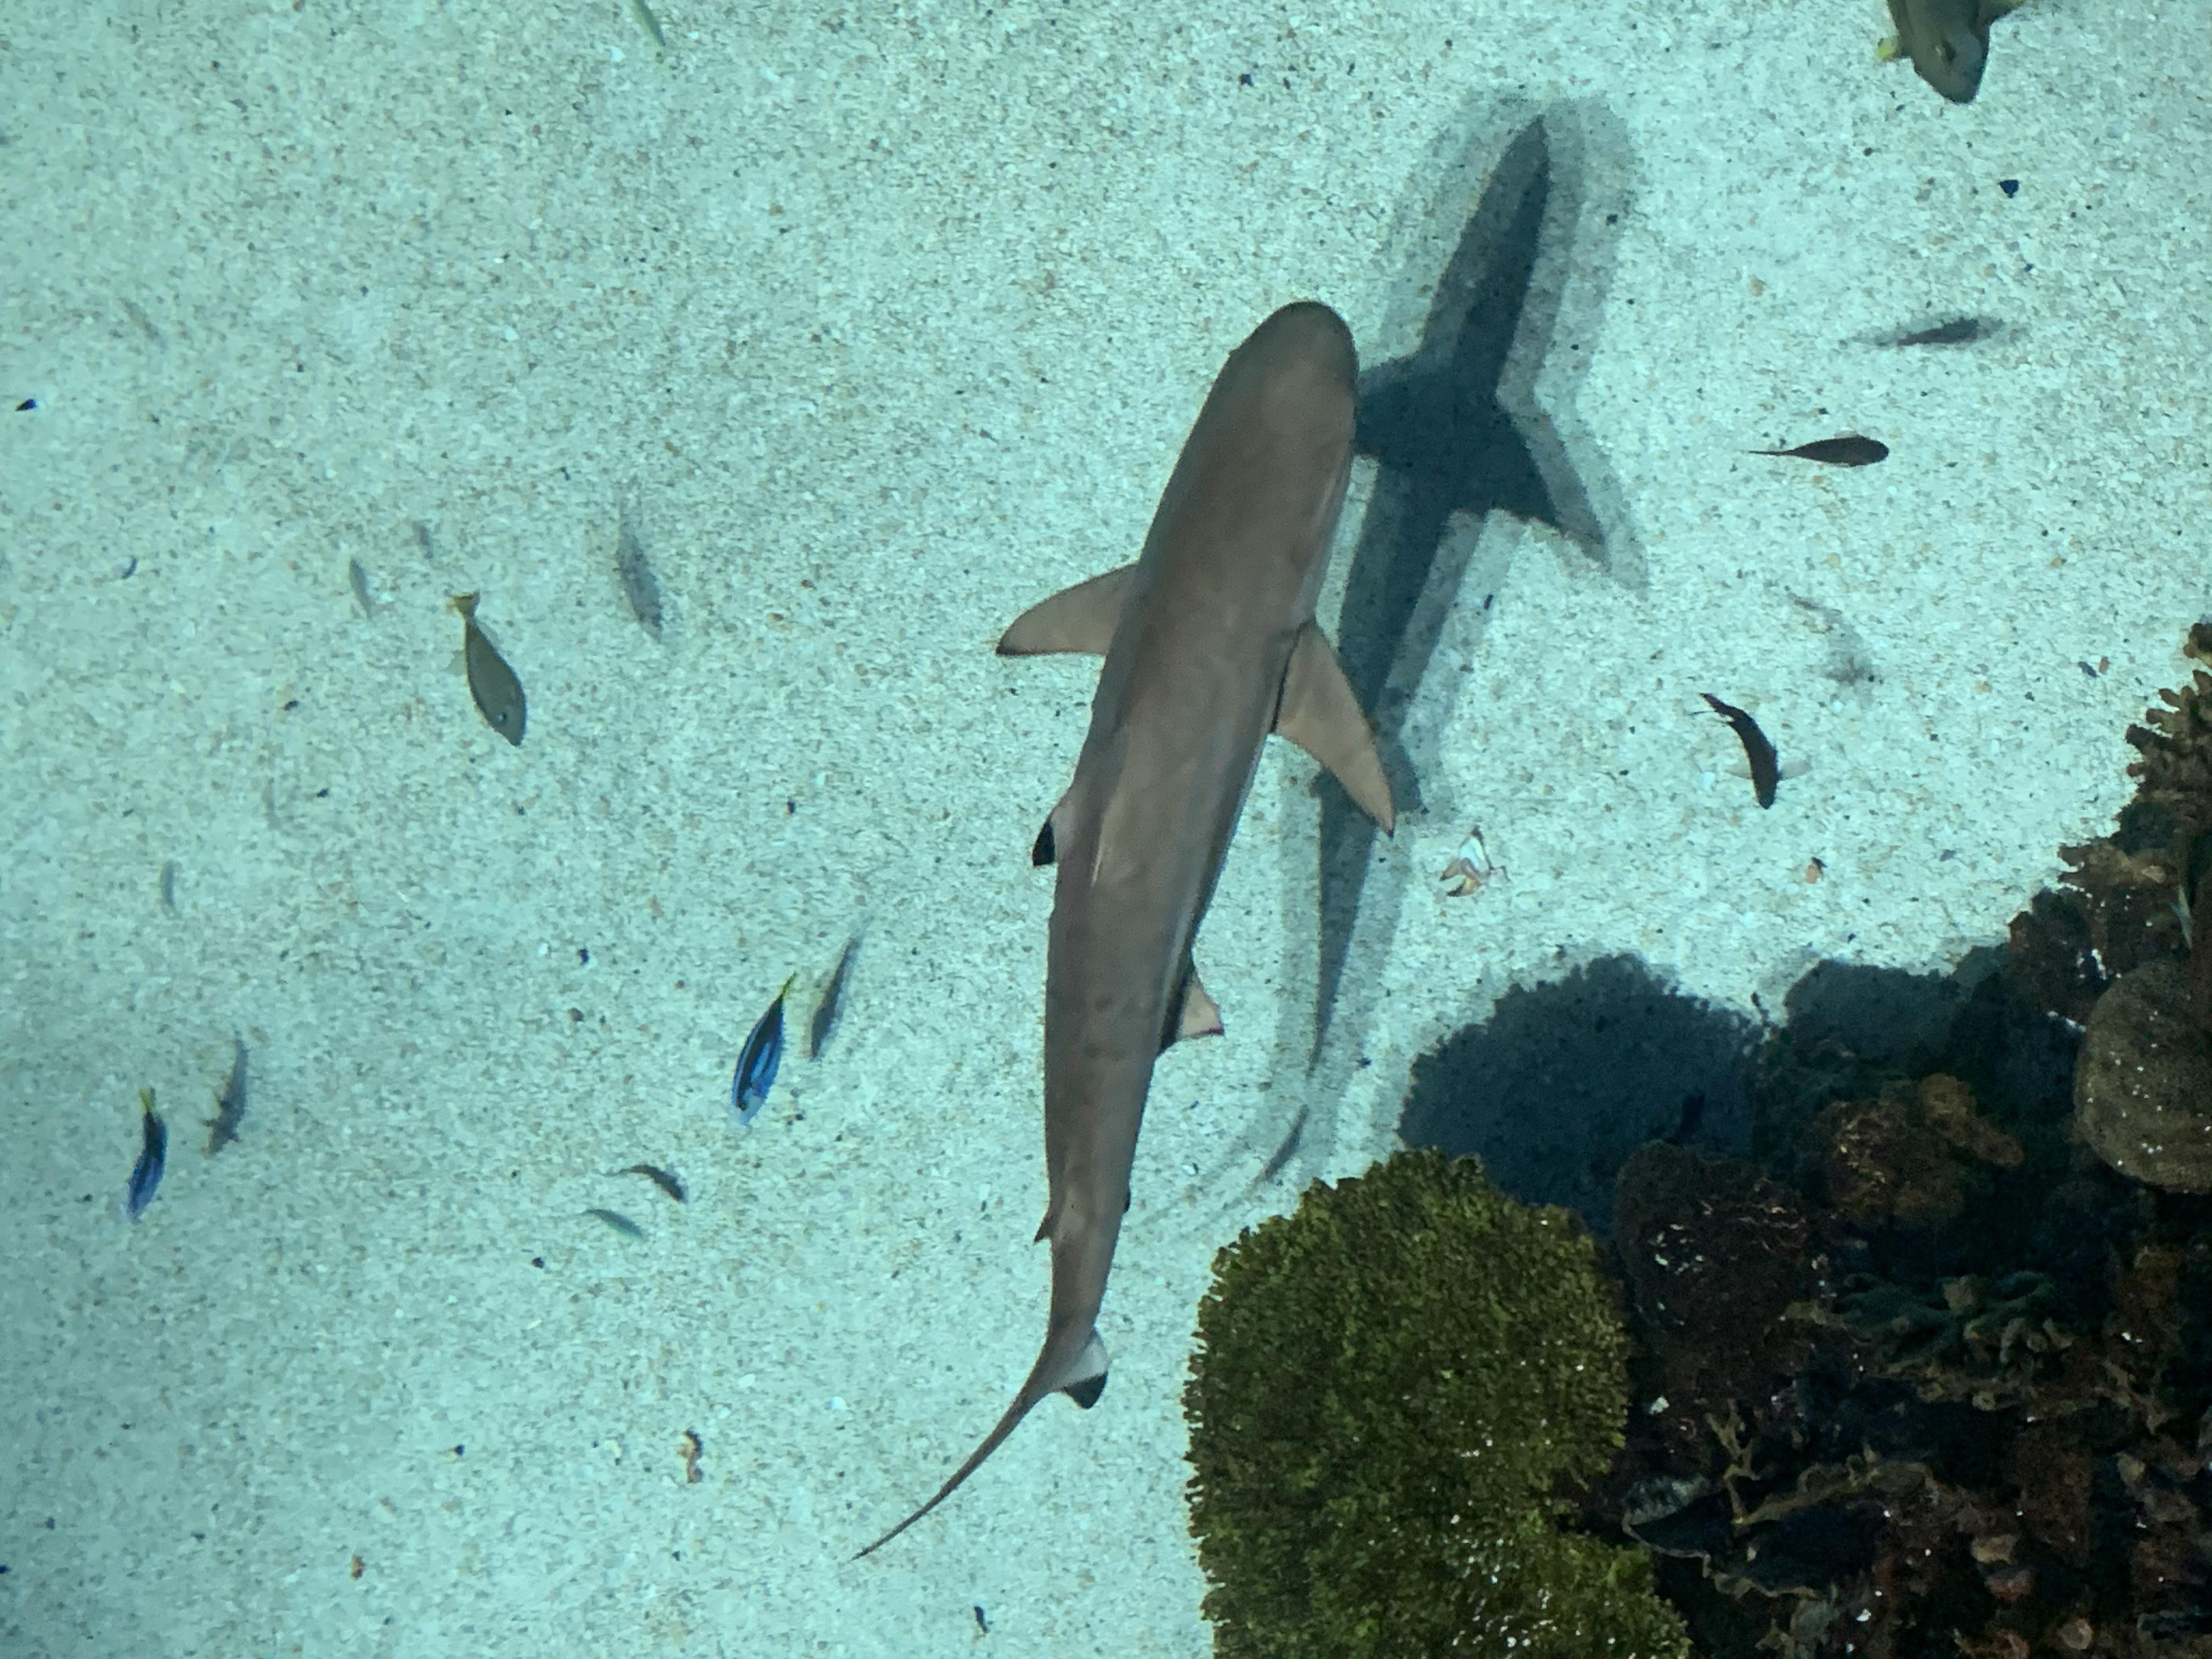fish: (415, 572, 554, 772), (714, 957, 808, 1155), (1688, 687, 1815, 830), (1867, 0, 2033, 110), (99, 1082, 190, 1237), (1723, 422, 1898, 490), (1846, 301, 2010, 371), (592, 1161, 690, 1208)
shark: (993, 298, 1400, 1412)
